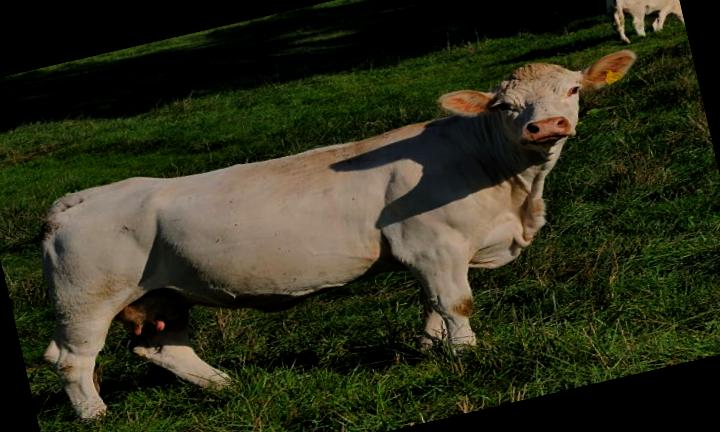Charolais: (43, 50, 636, 419)
